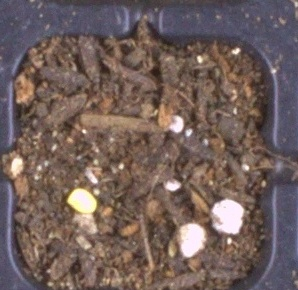chilli seed: (66, 188, 98, 214)
